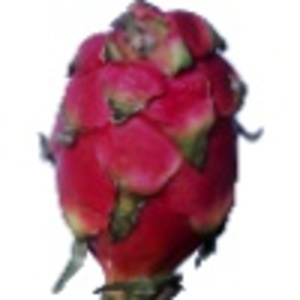pitaia: (38, 1, 265, 300)
